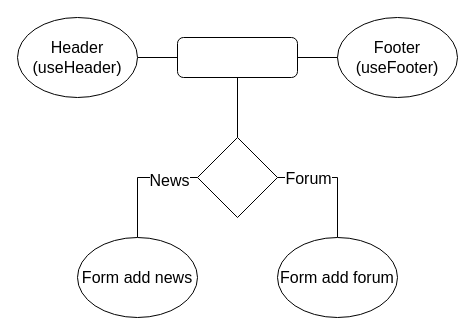
This 475x335 diagram has some shape labels left out. Each missing label, with the centre of its shape:
"Select" goes at point 237,177.
"User" goes at point 237,57.
